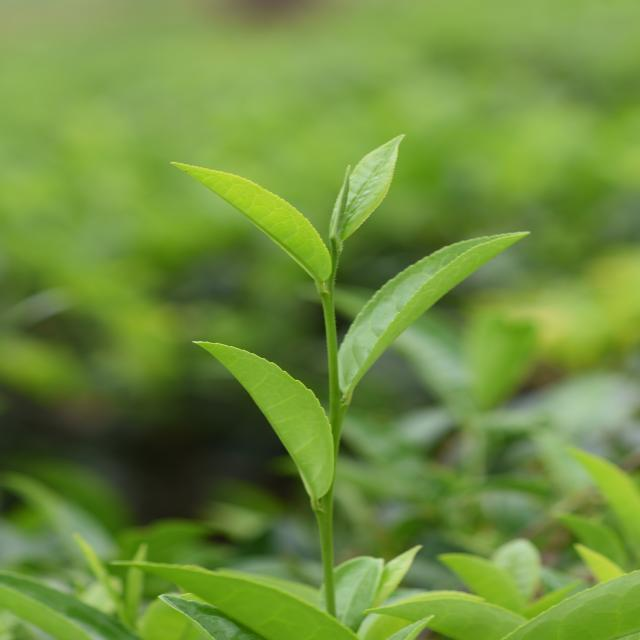Stem: (322, 287, 334, 303)
